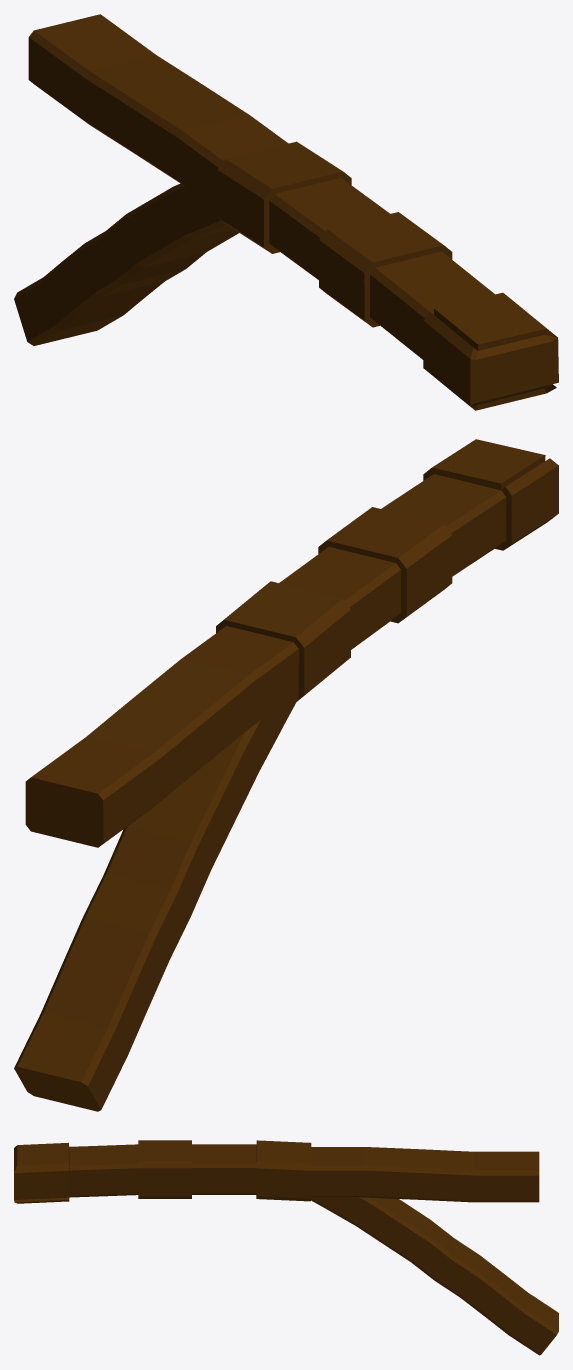
File: Wall_Arm.fbx
The picture shows the model from 3 angles, top to bottom: view 1: azimuth 30°, elevation 25°; view 2: azimuth 150°, elevation 25°; view 3: azimuth 270°, elevation 25°; orthographic projection. The views are drawn at different scales.
Visible parts, largest first — view 1: pCube8; view 2: pCube8; view 3: pCube8.
Boxes of the visible parts, box(x1,y1,x2,y2) form: pCube8: box(14, 14, 558, 410); pCube8: box(14, 439, 558, 1111); pCube8: box(14, 1140, 558, 1355).
Size of the model in its own units: 17.28 by 62.17 by 156.
